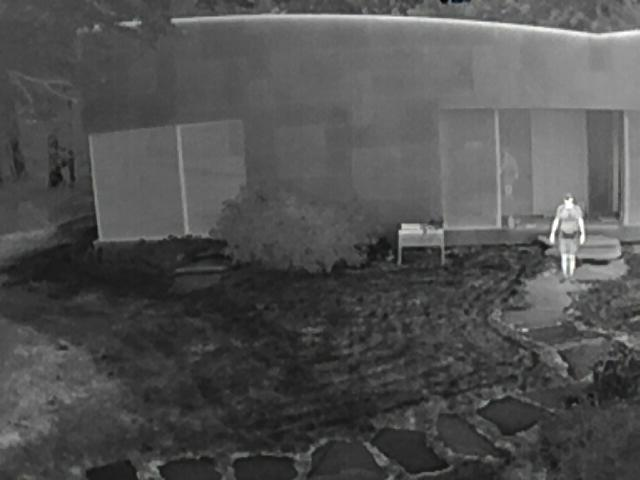person: (548, 194, 586, 280), (499, 145, 522, 206)
